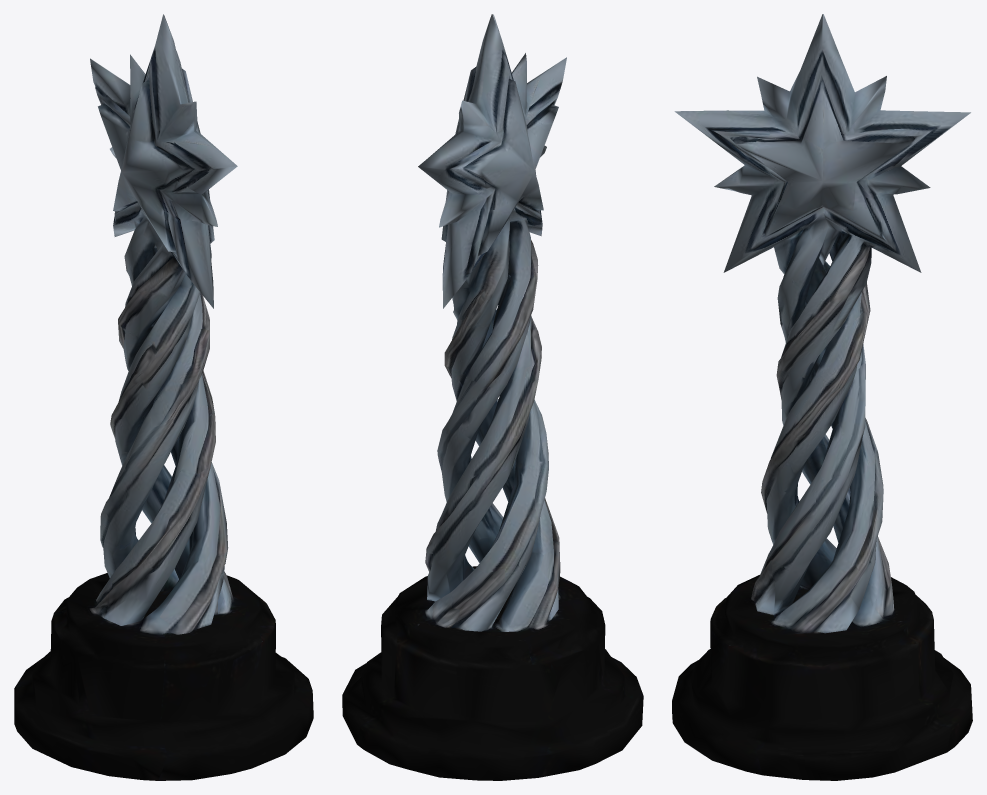
Rendered from pokal_stern.glb.
3 renders of one model, left to right at view 1: azimuth 30°, elevation 25°; view 2: azimuth 150°, elevation 25°; view 3: azimuth 270°, elevation 25°, orthographic.
Parts seen in each view (by area): view 1: tripo_node_e45e4f47-3692-44ce-ab8b-5e35a710ce6e; view 2: tripo_node_e45e4f47-3692-44ce-ab8b-5e35a710ce6e; view 3: tripo_node_e45e4f47-3692-44ce-ab8b-5e35a710ce6e.
Boxes of the visible parts, box(x1,y1,x2,y2) form: tripo_node_e45e4f47-3692-44ce-ab8b-5e35a710ce6e: box(14, 14, 313, 780); tripo_node_e45e4f47-3692-44ce-ab8b-5e35a710ce6e: box(342, 14, 643, 780); tripo_node_e45e4f47-3692-44ce-ab8b-5e35a710ce6e: box(672, 14, 972, 780).
Size of the model in its own units: 0.3861 by 0.9999 by 0.3864.
1 material, 1 textured.
